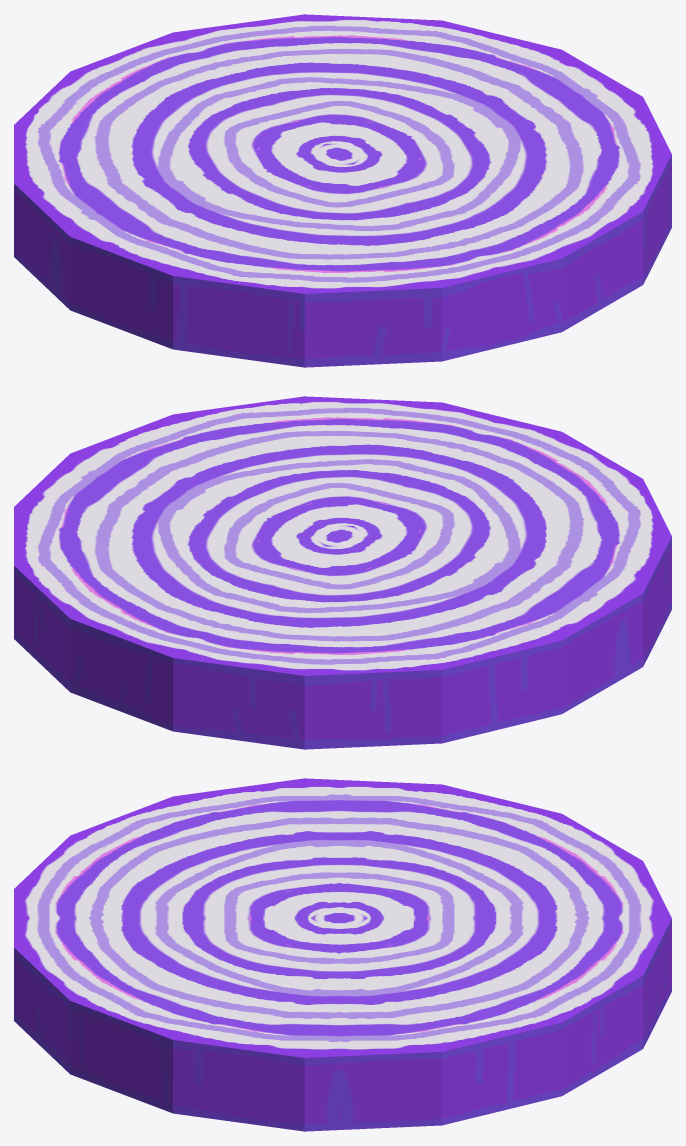
Rendered from Onion.obj.
3 views of the same model, one above another, from view 1: azimuth 30°, elevation 25°; view 2: azimuth 150°, elevation 25°; view 3: azimuth 270°, elevation 25° (orthographic).
Parts seen in each view (by area): view 1: Cylinder; view 2: Cylinder; view 3: Cylinder.
Part boxes in pixels (x1=…): Cylinder: x1=14, y1=14, x2=671, y2=367; Cylinder: x1=14, y1=396, x2=671, y2=749; Cylinder: x1=14, y1=778, x2=671, y2=1131.
Bounding box in the file's own units: 1.44 × 0.177 × 1.43.
